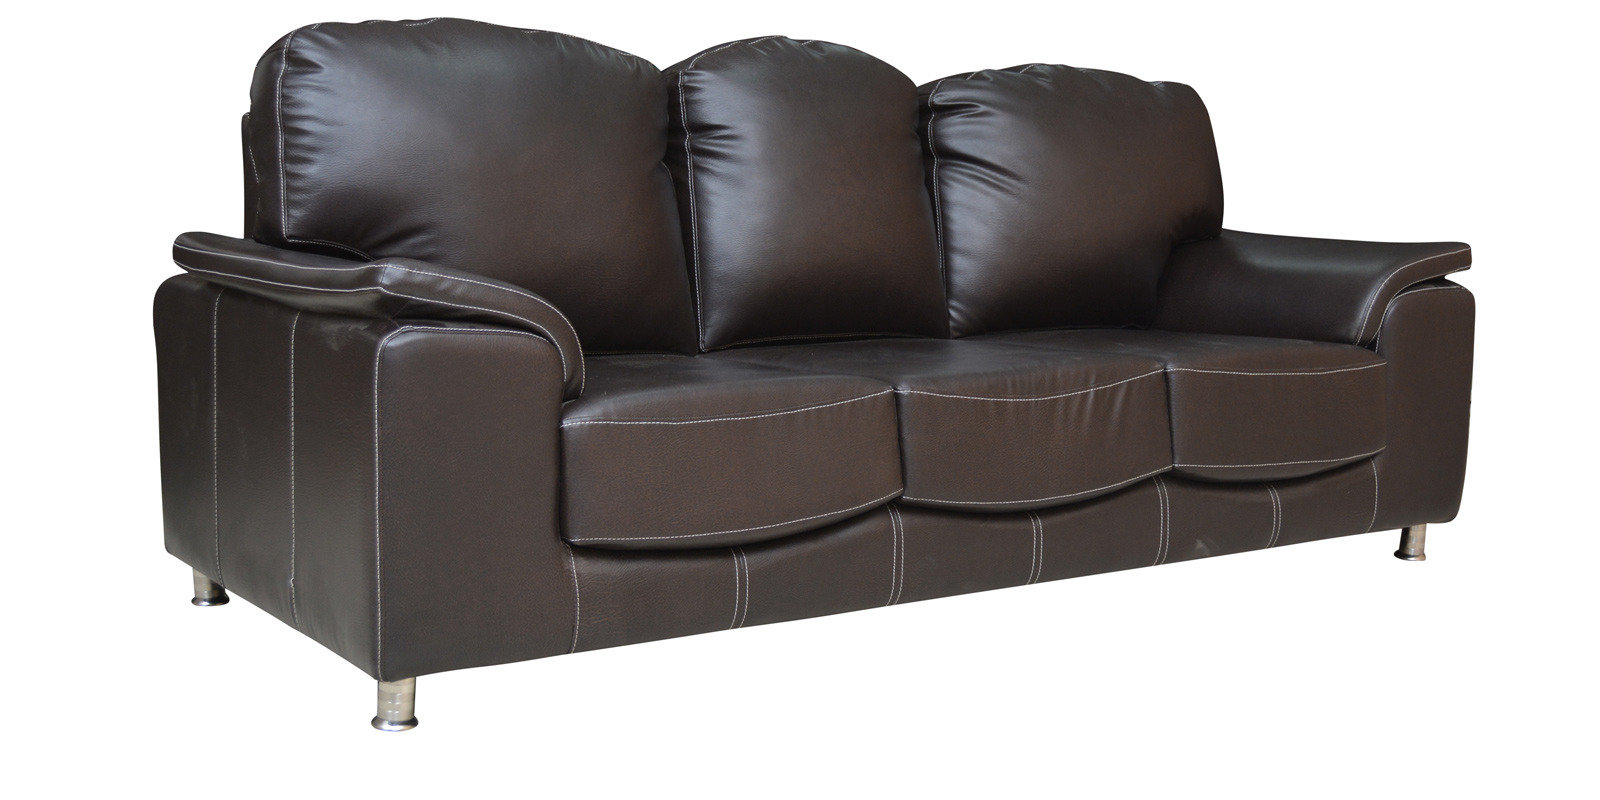Madeira Three Seater Sofa in Sandy Brown Colour by CasaCraft: (152, 14, 1476, 732)
